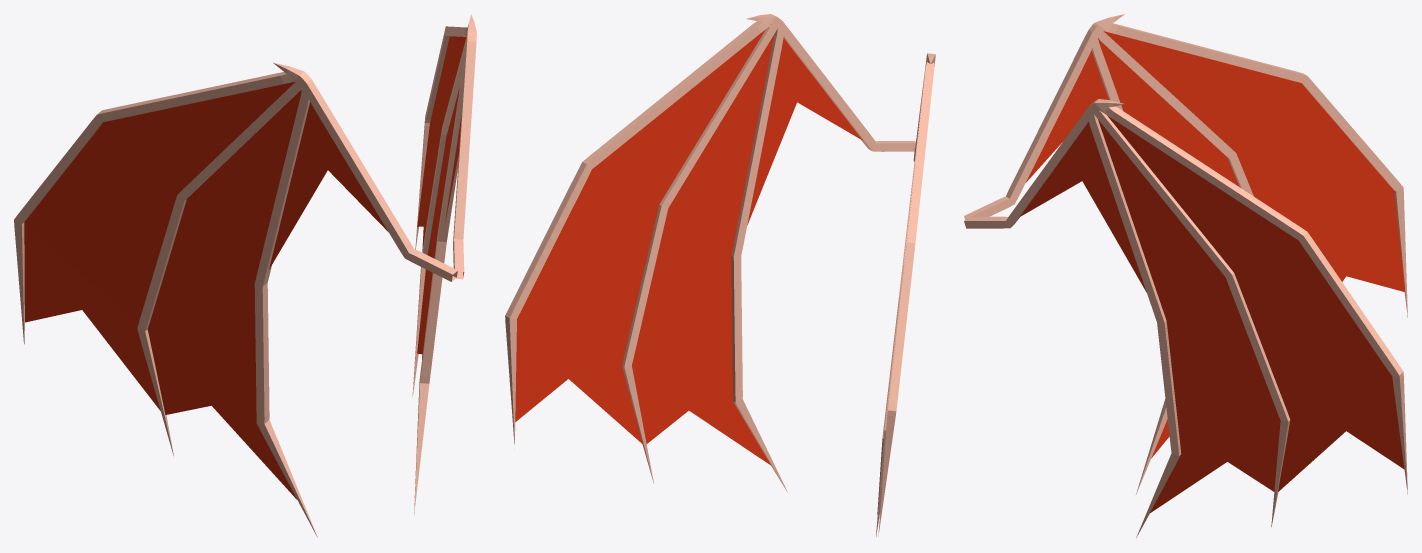
Rendered from Wings.fbx.
3 views of the same model, side by side, from view 1: azimuth 30°, elevation 25°; view 2: azimuth 150°, elevation 25°; view 3: azimuth 270°, elevation 25° (orthographic). The views are drawn at different scales.
Visible parts, largest first — view 1: Wing.002; view 2: Wing.002; view 3: Wing.002.
Boxes of the visible parts, x1=… form: Wing.002: x1=14, y1=14, x2=476, y2=537; Wing.002: x1=505, y1=14, x2=935, y2=536; Wing.002: x1=964, y1=14, x2=1407, y2=537.
Size of the model in its own units: 166 by 186 by 163.
